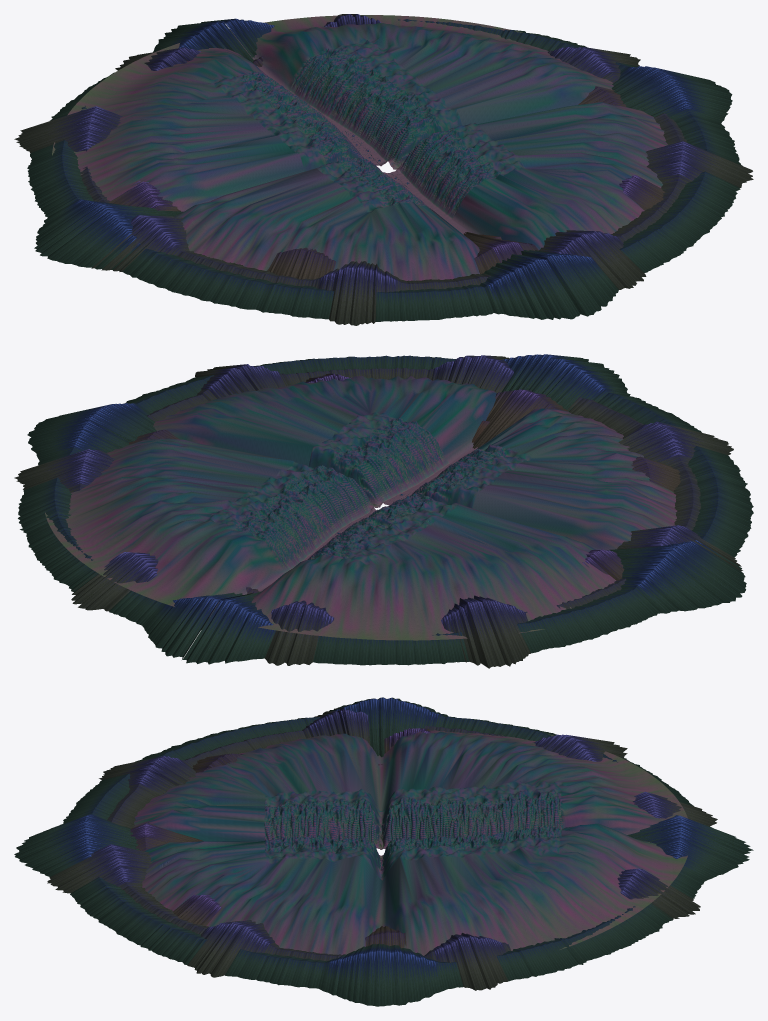
Rendered from nowhere-backdrop.glb.
3 views of the same model, one above another, from view 1: azimuth 30°, elevation 25°; view 2: azimuth 150°, elevation 25°; view 3: azimuth 270°, elevation 25° (orthographic). The views are drawn at different scales.
Visible parts, largest first — view 1: BD_ground, BD_ridge_4, BD_ridge_3, BD_ridge_2; view 2: BD_ground, BD_ridge_4, BD_ridge_3, BD_ridge_2; view 3: BD_ground, BD_ridge_4, BD_ridge_3, BD_ridge_2.
Part boxes in pixels (x1=…): BD_ground: x1=52, y1=15, x2=668, y2=280; BD_ridge_4: x1=27, y1=18, x2=742, y2=321; BD_ridge_3: x1=14, y1=14, x2=753, y2=325; BD_ridge_2: x1=109, y1=56, x2=665, y2=279; BD_ground: x1=45, y1=375, x2=677, y2=640; BD_ridge_4: x1=18, y1=354, x2=753, y2=665; BD_ridge_3: x1=14, y1=355, x2=742, y2=668; BD_ridge_2: x1=129, y1=373, x2=680, y2=594; BD_ground: x1=133, y1=730, x2=687, y2=955; BD_ridge_4: x1=14, y1=697, x2=753, y2=1006; BD_ridge_3: x1=47, y1=708, x2=717, y2=990; BD_ridge_2: x1=129, y1=728, x2=434, y2=948.
Size of the model in its own units: 14745 by 1122 by 14907.
Materials: 4 (3 with a texture image).
